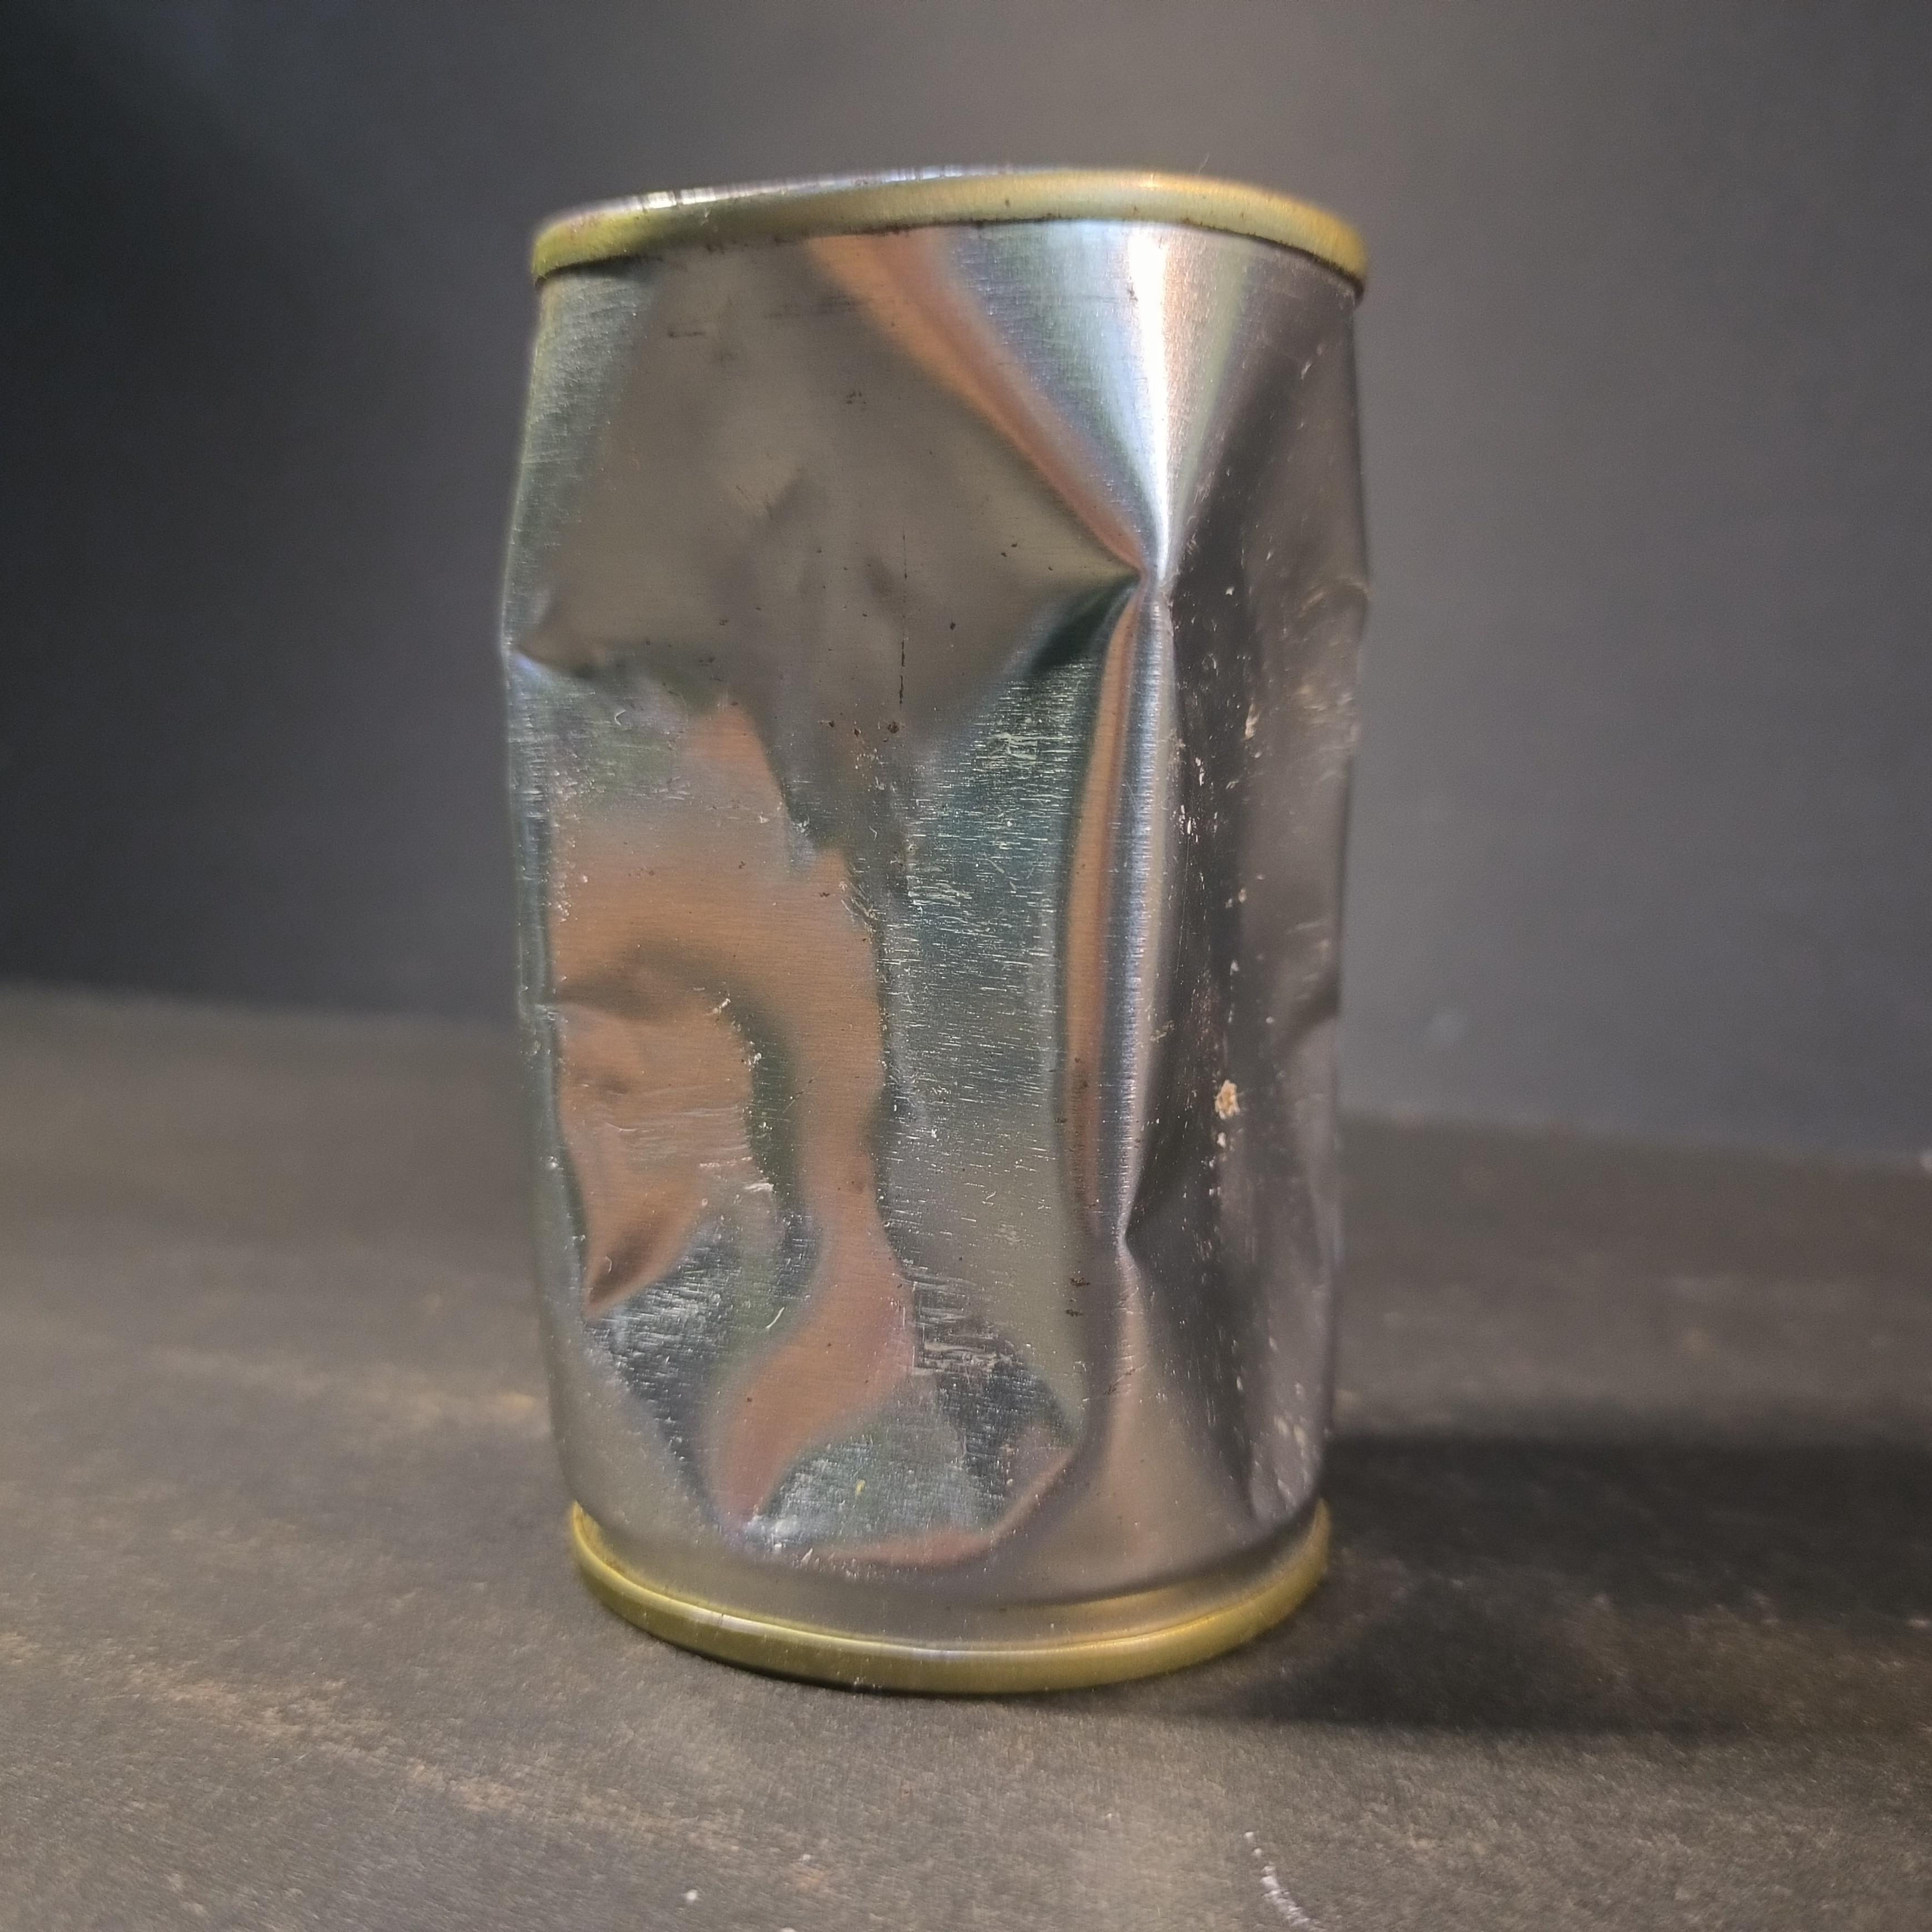Dented: (451, 131, 1405, 1702)
